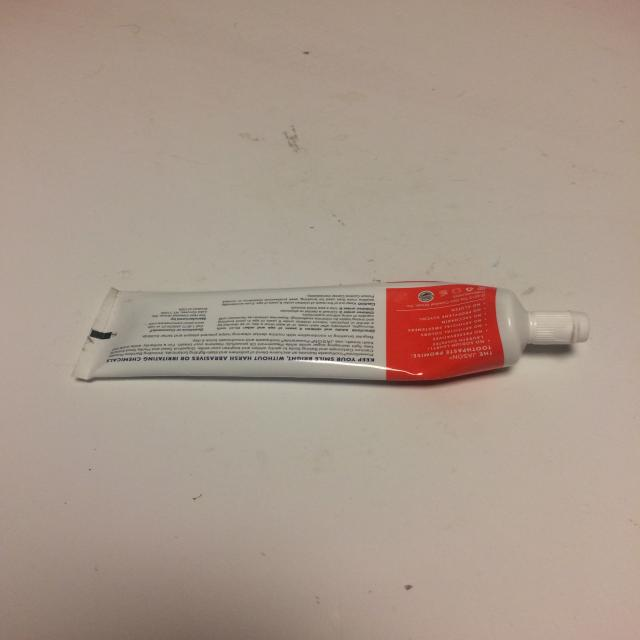trash: (72, 280, 590, 383)
